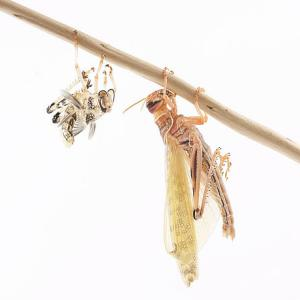locust: (142, 57, 244, 280), (37, 57, 131, 145)
